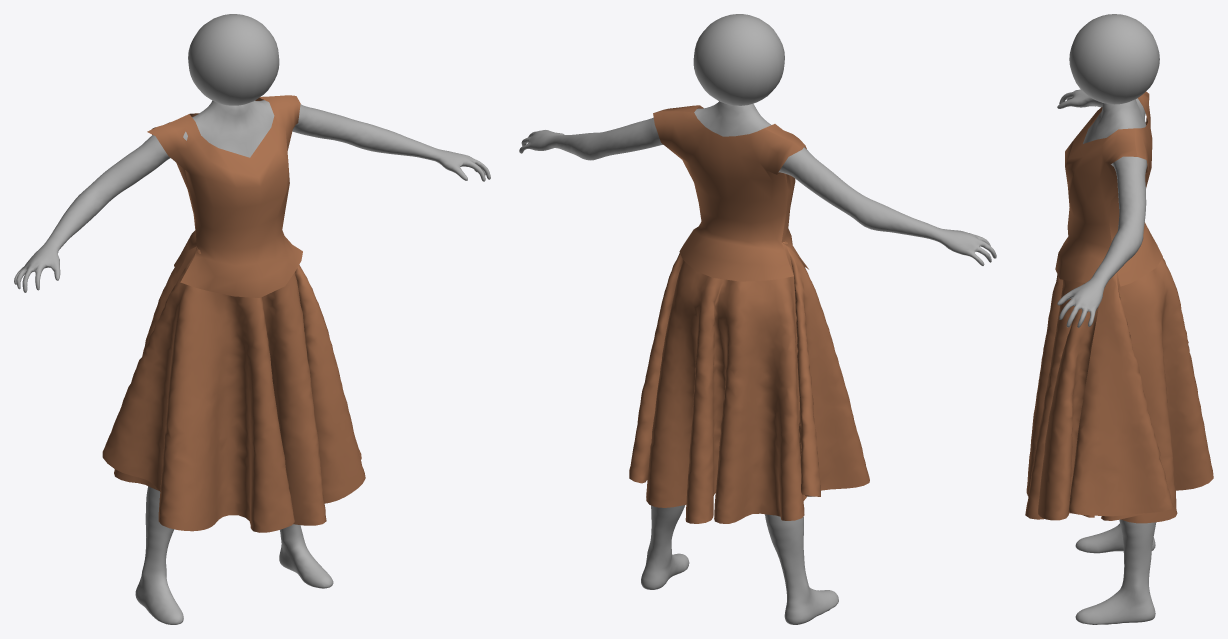
Rendered from physic_test_2.fbx.
3 renders of one model, left to right at view 1: azimuth 30°, elevation 25°; view 2: azimuth 150°, elevation 25°; view 3: azimuth 270°, elevation 25°, orthographic.
Parts seen in each view (by area): view 1: Pattern2D_654403, Obj_Avatar_Shape1, polySurface5; view 2: Pattern2D_654403, Obj_Avatar_Shape1, polySurface5; view 3: Pattern2D_654403, Obj_Avatar_Shape1, polySurface5.
Boxes of the visible parts, x1,y1,x2,y2 form: Pattern2D_654403: [102, 246, 365, 532]; Obj_Avatar_Shape1: [14, 14, 490, 624]; polySurface5: [147, 95, 302, 297]; Pattern2D_654403: [629, 241, 869, 523]; Obj_Avatar_Shape1: [519, 14, 996, 624]; polySurface5: [653, 105, 808, 281]; Pattern2D_654403: [1025, 258, 1213, 523]; Obj_Avatar_Shape1: [1057, 14, 1159, 624]; polySurface5: [1055, 91, 1162, 286].
Bounding box in the file's own units: 12.06 × 14.12 × 4.27.
